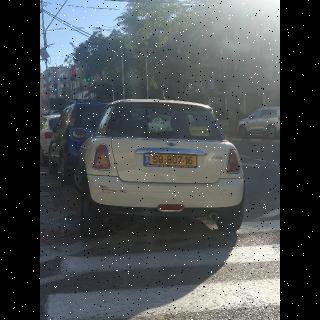LicensePlate: (151, 155, 197, 166)
